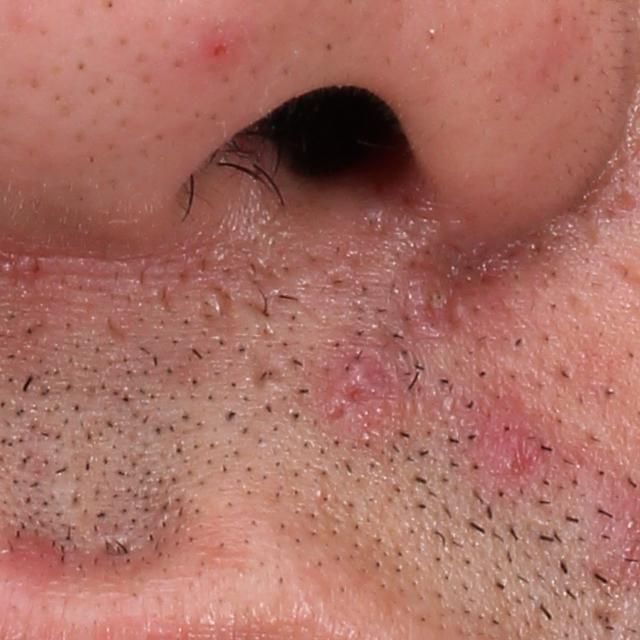atrophic_scar: (246, 345, 295, 393), (205, 278, 239, 336), (105, 311, 134, 343)
papule: (490, 407, 564, 493), (339, 345, 385, 406), (200, 30, 244, 73)
